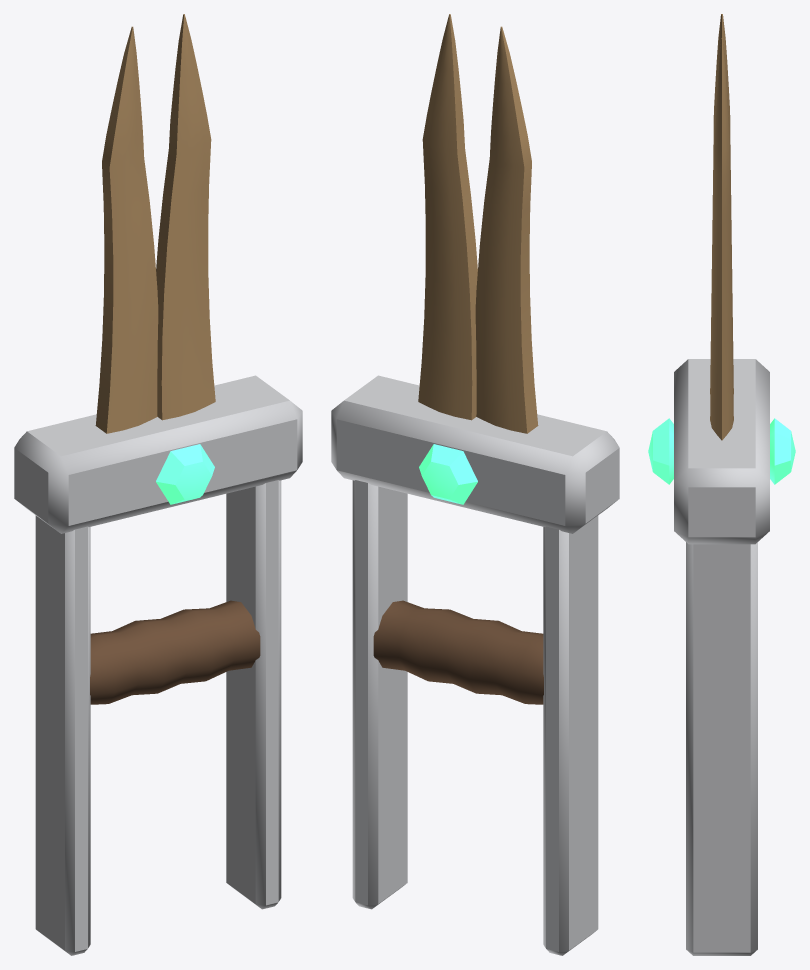
The model's file is depth_rootrake_claws.glb.
3 views of the same model, side by side, from view 1: azimuth 30°, elevation 25°; view 2: azimuth 150°, elevation 25°; view 3: azimuth 270°, elevation 25° (orthographic). The views are drawn at different scales.
Parts seen in each view (by area): view 1: depth_rootrake_claws; view 2: depth_rootrake_claws; view 3: depth_rootrake_claws.
Part boxes in pixels (bbox=[...]): depth_rootrake_claws: bbox=[14, 14, 302, 955]; depth_rootrake_claws: bbox=[331, 14, 619, 955]; depth_rootrake_claws: bbox=[648, 14, 795, 955].
Size of the model in its own units: 0.12 by 0.4058 by 0.0616.
